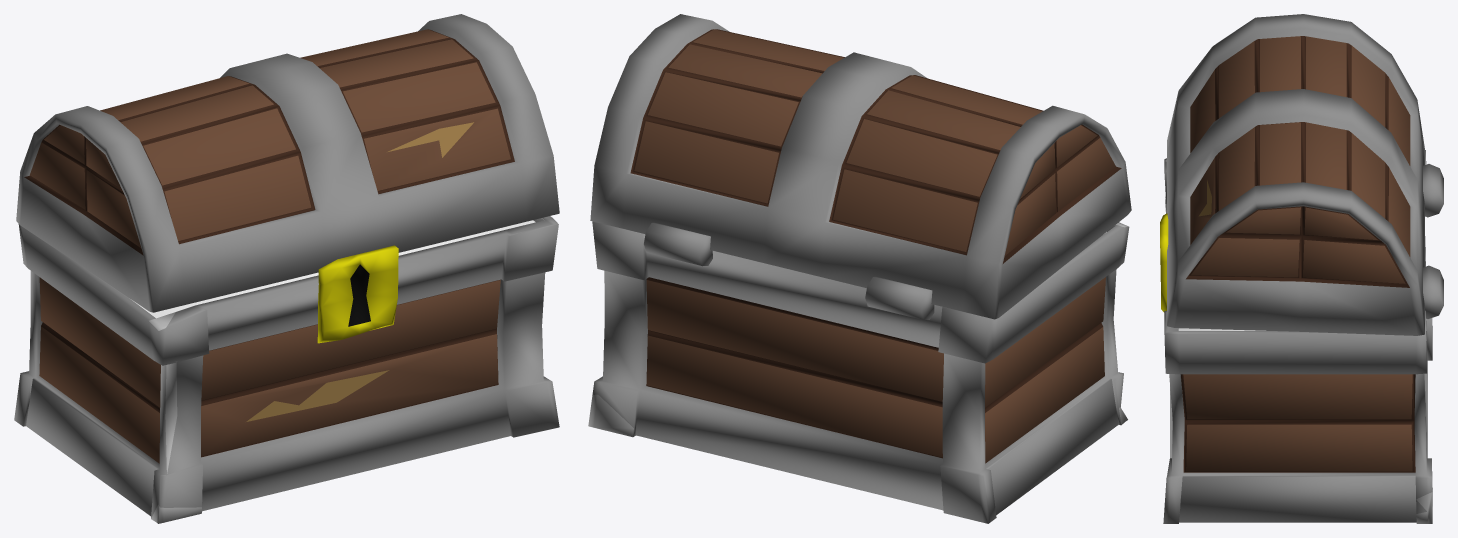
The model's file is ChestAnim.fbx.
3 views of the same model, side by side, from view 1: azimuth 30°, elevation 25°; view 2: azimuth 150°, elevation 25°; view 3: azimuth 270°, elevation 25° (orthographic). The views are drawn at different scales.
Parts seen in each view (by area): view 1: Cube, Cylinder.001, Plane; view 2: Cylinder.001, Cube; view 3: Cylinder.001, Cube.
Part boxes in pixels (box(x1,y1,x2,y2)): Cube: box(14, 216, 559, 523); Cylinder.001: box(16, 14, 559, 312); Plane: box(131, 220, 535, 318); Cylinder.001: box(590, 14, 1131, 320); Cube: box(588, 221, 1129, 523); Cylinder.001: box(1167, 14, 1443, 335); Cube: box(1160, 150, 1432, 523).
Bounding box in the file's own units: 370 × 307 × 239.
